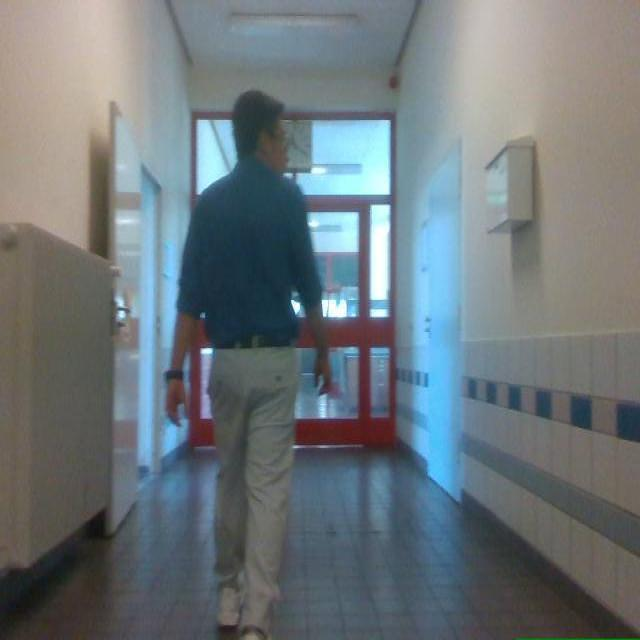humans: (166, 91, 331, 639)
